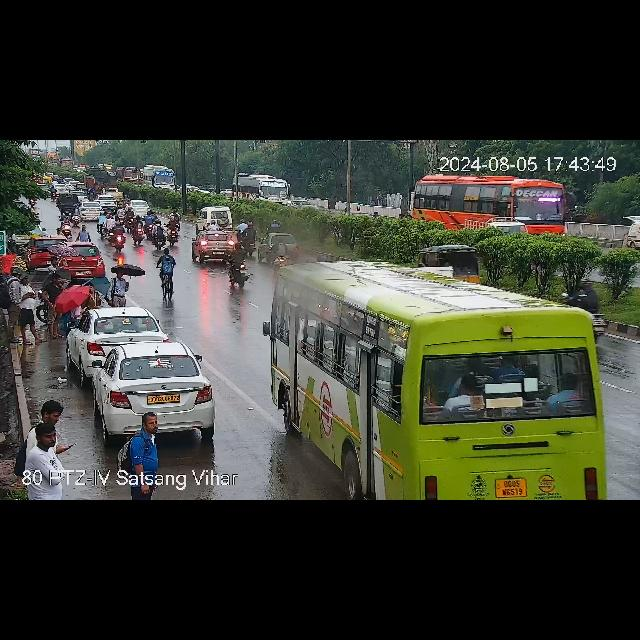bus: (266, 254, 624, 501), (404, 170, 566, 230), (235, 173, 289, 201), (146, 166, 177, 192)
car: (92, 344, 218, 436), (68, 306, 162, 366), (424, 245, 484, 278), (191, 230, 239, 262), (72, 240, 105, 278), (25, 234, 49, 270), (80, 202, 104, 222), (258, 233, 272, 263), (59, 192, 79, 212), (96, 195, 120, 207), (58, 183, 68, 194)
motorcycle: (575, 276, 605, 342), (145, 205, 181, 251), (226, 241, 252, 287), (160, 248, 177, 304), (96, 210, 120, 230), (124, 200, 152, 217), (110, 205, 136, 223), (244, 222, 258, 254), (112, 220, 126, 250), (274, 236, 286, 268), (59, 210, 71, 236), (142, 212, 156, 232), (70, 203, 80, 225), (236, 218, 246, 235), (207, 218, 219, 230), (51, 185, 57, 201), (270, 220, 278, 230)
person: (31, 397, 74, 449), (134, 411, 164, 469), (8, 266, 22, 342), (21, 272, 35, 344), (49, 270, 61, 342), (74, 282, 98, 314), (112, 272, 130, 304), (49, 255, 61, 272), (78, 224, 89, 240), (54, 228, 64, 238)
truck: (86, 164, 122, 192)
